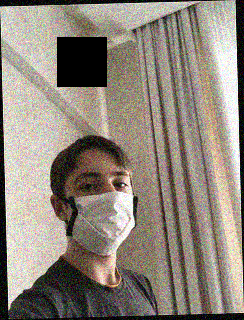with_mask: (65, 164, 139, 257)
